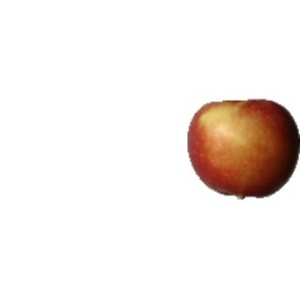maçã braeburn: (185, 98, 300, 200)
